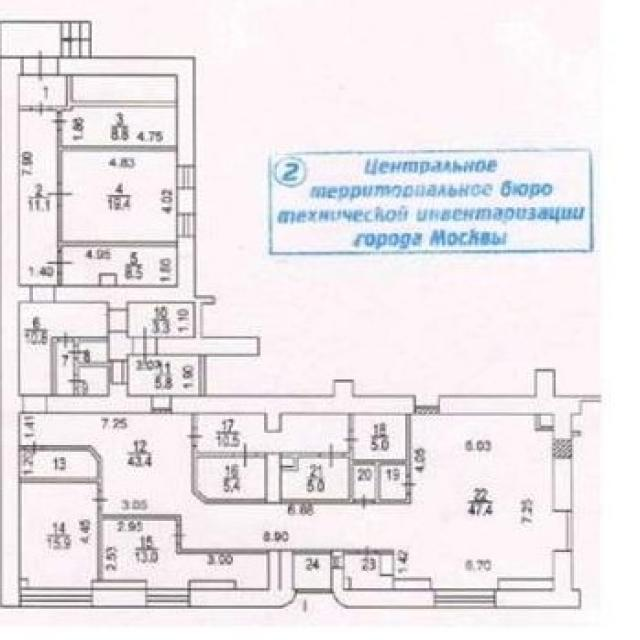Corridors: (20, 414, 566, 589), (19, 303, 107, 395), (20, 112, 56, 285), (198, 414, 347, 452), (127, 357, 197, 409), (73, 77, 175, 100), (129, 304, 192, 336), (19, 451, 96, 476), (344, 555, 394, 588), (22, 76, 65, 105), (295, 555, 330, 588), (57, 342, 72, 394), (381, 468, 405, 497), (81, 368, 107, 393), (355, 467, 374, 497), (80, 345, 107, 361), (502, 582, 554, 588)
Doors: (20, 48, 59, 82), (134, 325, 157, 367), (318, 441, 343, 469), (44, 251, 74, 274), (233, 442, 258, 468), (46, 183, 73, 207), (415, 395, 439, 415), (22, 394, 47, 413), (398, 474, 420, 495), (30, 98, 53, 117), (31, 284, 54, 303), (107, 309, 128, 329), (184, 426, 205, 446), (340, 429, 361, 449), (109, 361, 128, 383), (64, 372, 87, 390), (354, 491, 374, 511), (50, 110, 69, 131), (90, 490, 111, 509), (356, 544, 377, 563), (66, 345, 87, 362), (171, 525, 188, 545), (24, 440, 42, 457), (57, 329, 73, 348)
LBwalls: (438, 368, 583, 513), (45, 380, 416, 433), (0, 57, 32, 608), (58, 56, 196, 164), (54, 237, 197, 310), (189, 548, 296, 609), (329, 549, 437, 609), (495, 549, 583, 610), (157, 338, 260, 356), (92, 589, 147, 608), (107, 330, 134, 361), (265, 452, 281, 503), (91, 579, 147, 589), (188, 579, 237, 589), (176, 188, 195, 213), (392, 579, 430, 589), (282, 458, 299, 473), (381, 555, 393, 576), (345, 576, 351, 590), (21, 578, 28, 587)
Offices: (104, 520, 268, 588), (63, 153, 174, 239), (21, 483, 96, 587), (64, 248, 177, 284), (62, 108, 175, 144), (199, 459, 265, 497), (282, 459, 348, 497), (355, 415, 405, 458)
Stairs: (1, 20, 93, 56)
Walls: (282, 415, 412, 506), (57, 130, 176, 184), (96, 509, 181, 579), (56, 207, 176, 251), (52, 76, 175, 112), (191, 446, 265, 505), (20, 445, 104, 490), (192, 296, 218, 337), (174, 545, 268, 555), (497, 577, 554, 589), (72, 360, 108, 374), (50, 336, 57, 395), (534, 414, 554, 431), (198, 355, 205, 396), (73, 336, 107, 344), (283, 451, 318, 458), (567, 513, 573, 550), (294, 588, 331, 594), (294, 549, 330, 555), (580, 395, 604, 402), (377, 549, 395, 556), (347, 414, 354, 429), (190, 414, 198, 427), (18, 105, 31, 111), (56, 274, 63, 284), (571, 430, 582, 436), (257, 451, 264, 459), (19, 445, 24, 451), (73, 389, 79, 394)
Windows: (20, 587, 92, 607), (435, 589, 495, 608), (147, 589, 190, 608), (176, 213, 195, 238), (176, 165, 196, 188)
